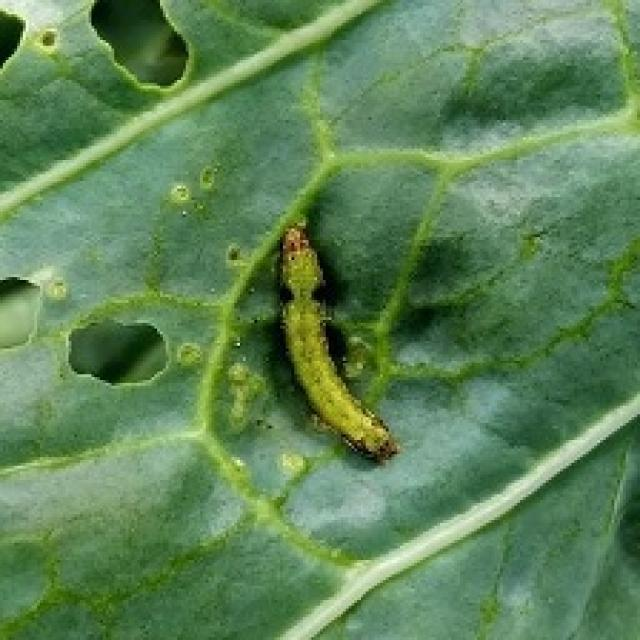Cabbage-worm: (274, 225, 400, 467)
